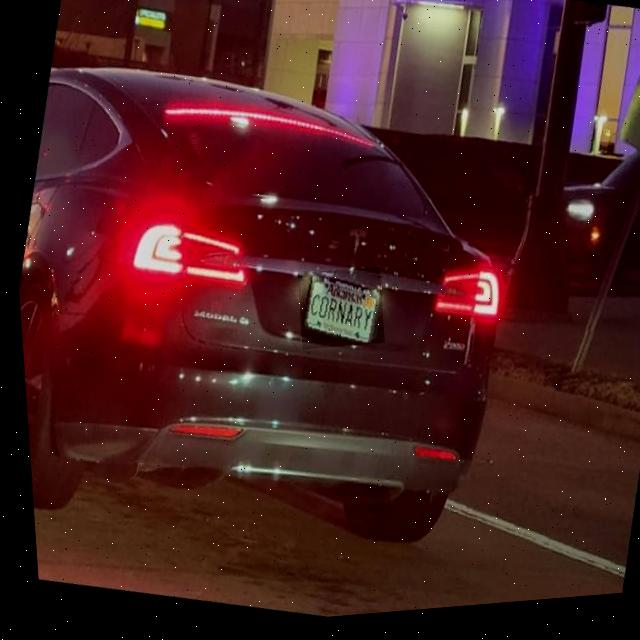LicensePlate: (297, 277, 377, 350)
